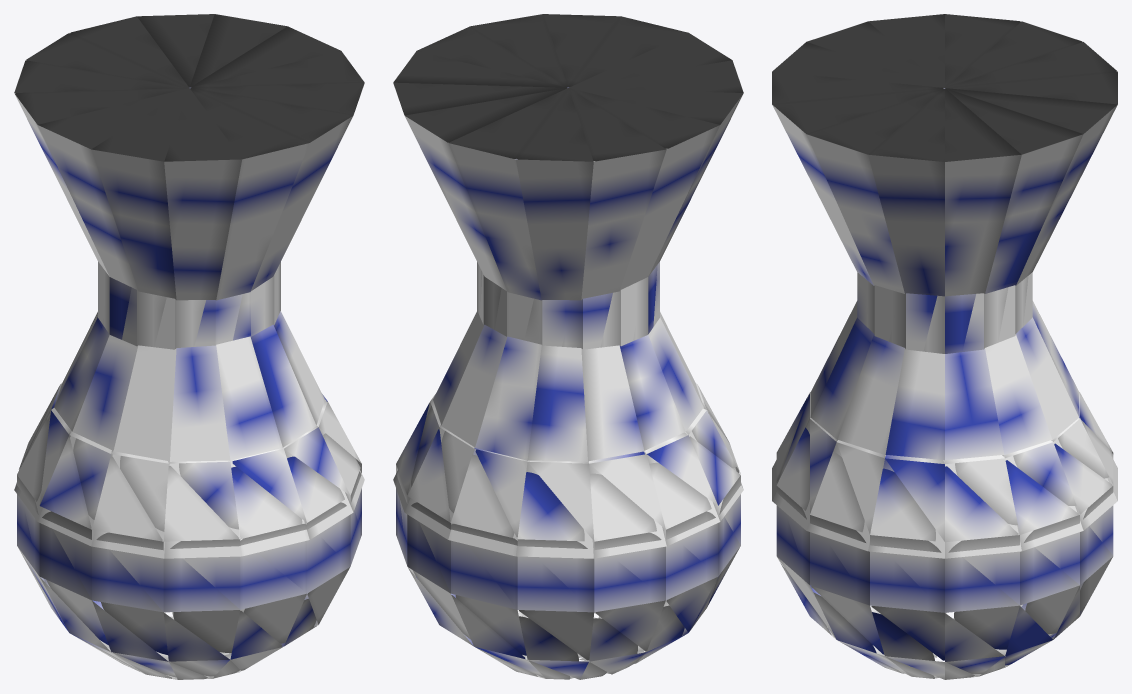
3 views of the same model, side by side, from view 1: azimuth 30°, elevation 25°; view 2: azimuth 150°, elevation 25°; view 3: azimuth 270°, elevation 25° (orthographic).
Parts seen in each view (by area): view 1: cone_1, sphere, cone, cylinder; view 2: cone_1, sphere, cone, cylinder; view 3: cone_1, sphere, cone, cylinder.
Boxes of the visible parts, x1,y1,x2,y2 form: cone_1: (14,14,364,300); sphere: (17,383,361,679); cone: (14,311,364,558); cylinder: (98,261,280,349); cone_1: (393,14,743,300); sphere: (396,383,740,679); cone: (393,311,743,558); cylinder: (477,261,659,349); cone_1: (772,14,1117,296); sphere: (776,392,1113,679); cone: (772,301,1117,558); cylinder: (857,272,1032,353).
Size of the model in its own units: 62.54 by 113 by 61.72.
Materials: 1 (1 with a texture image).
